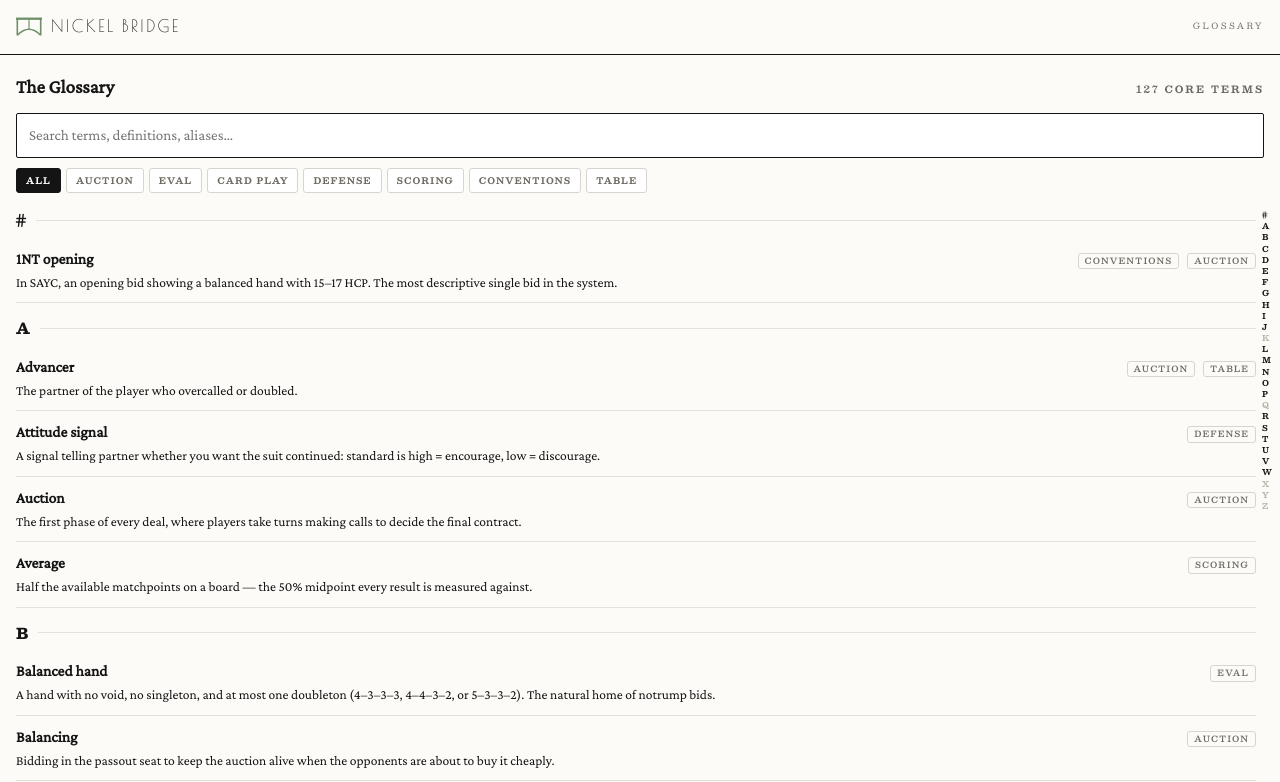
Scenario: Glossary page › files the app tour as a ledger term (the easter egg): searchable, sheet links to /tour
The width and height of the screenshot is (1280, 782).
# found under its aliases, like any other term
Type "app tour" into the search field with placeholder "Search terms, definitions, aliases…" at point(640, 135), box [16,113,1264,158]
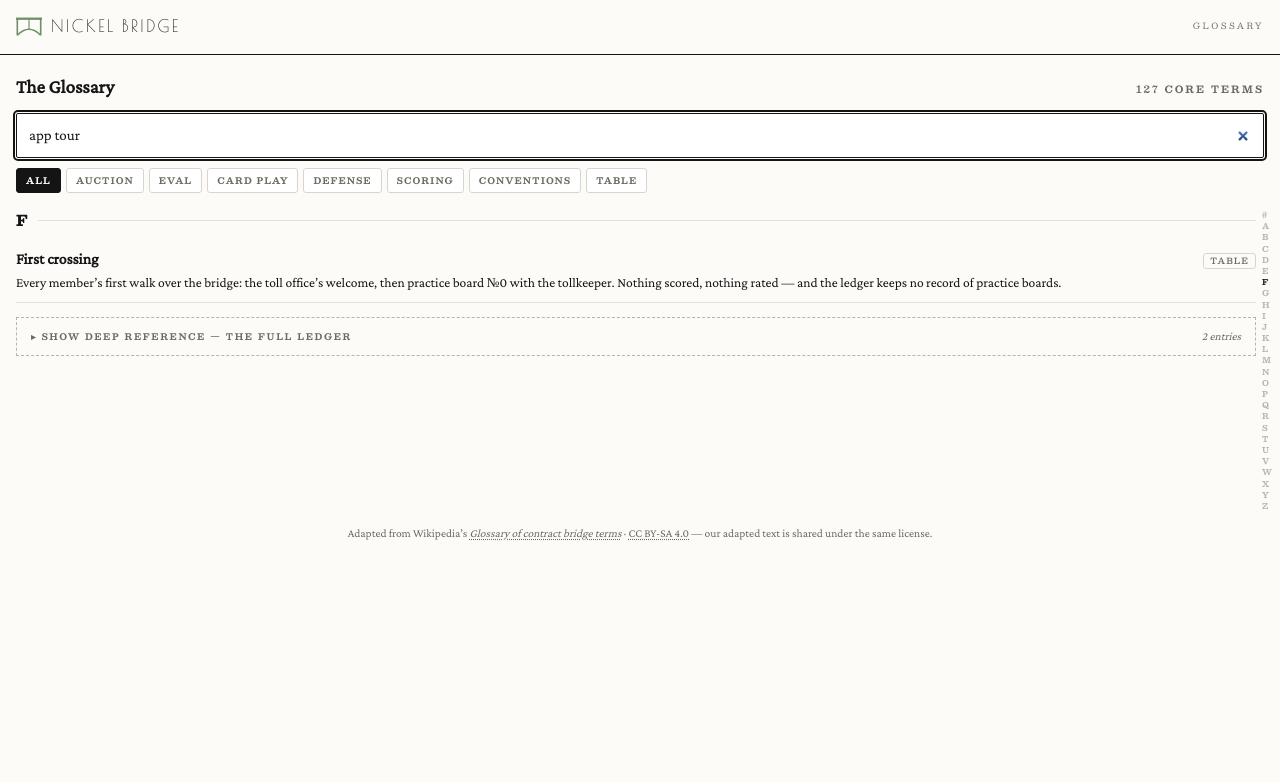
Click the button "First crossing" at point(57, 258), box [16,238,1256,303]
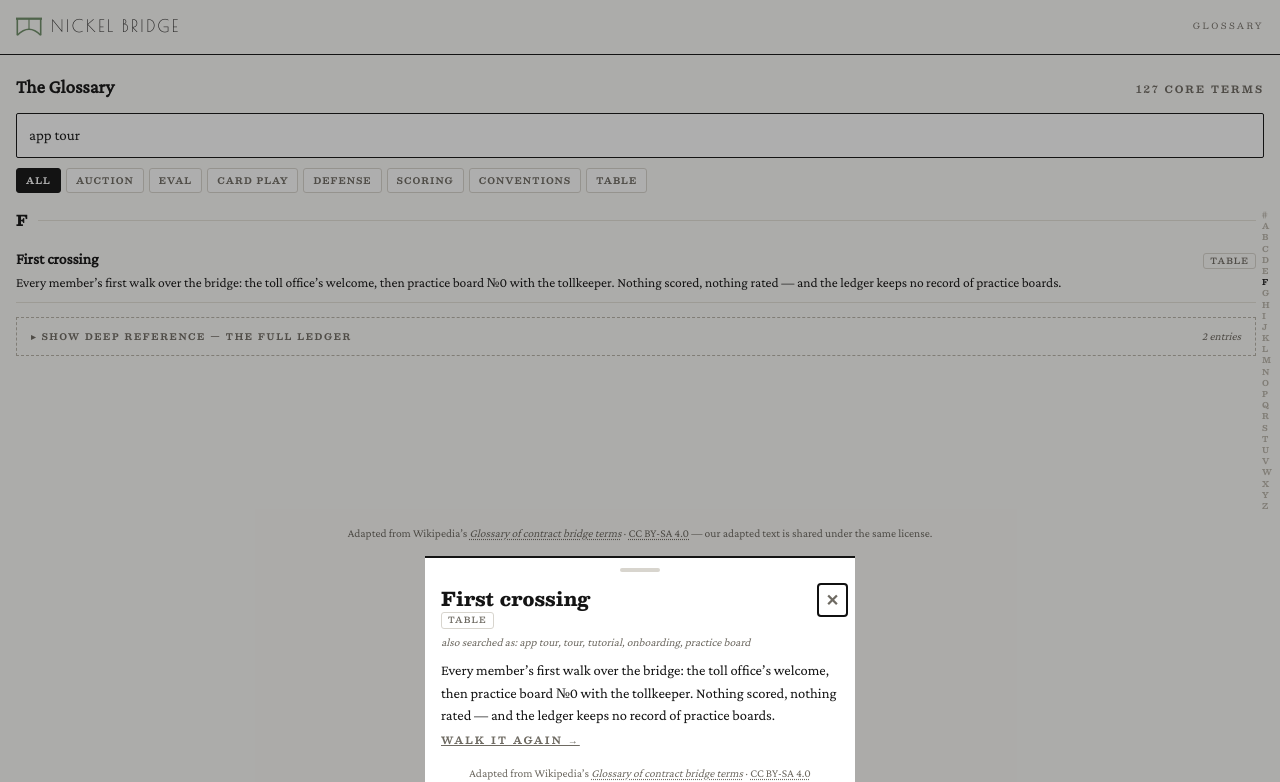
expect the dialog shows "practice board №0": met, box [441,662,836,723]
